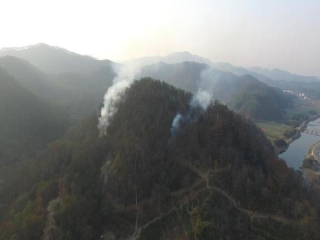smoke: (96, 57, 146, 140), (173, 66, 225, 142)
